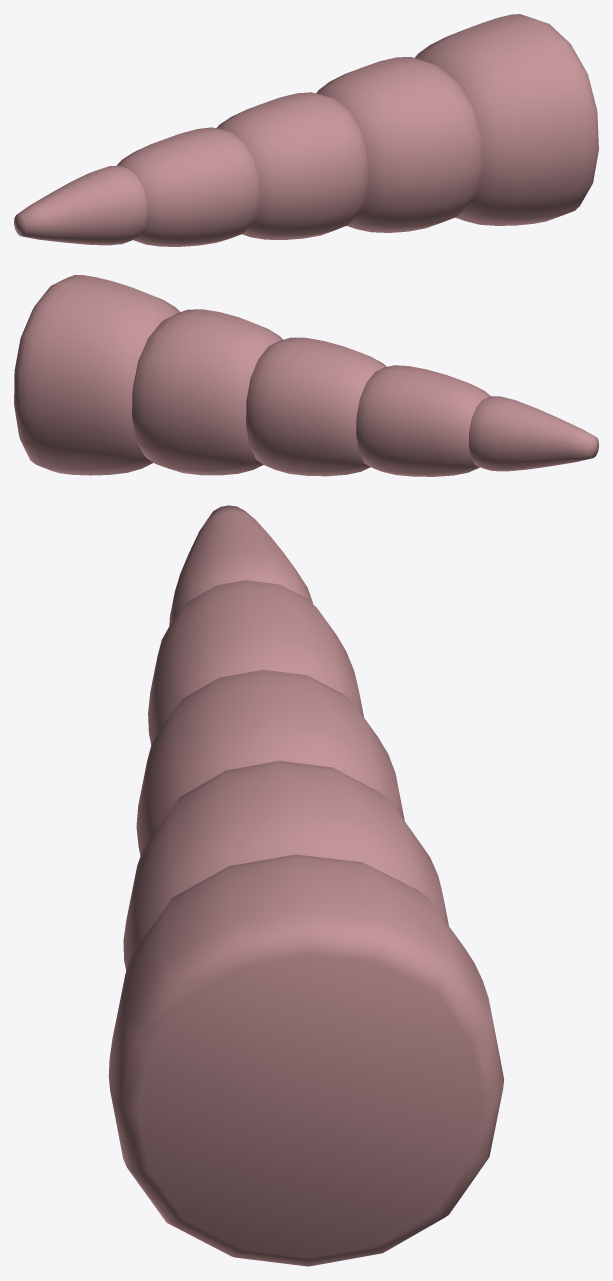
The model's file is ChifreDeUnicornio.fbx.
3 renders of one model, top to bottom at view 1: azimuth 30°, elevation 25°; view 2: azimuth 150°, elevation 25°; view 3: azimuth 270°, elevation 25°, orthographic. The views are drawn at different scales.
Visible parts, largest first — view 1: Chifre de Unicornio; view 2: Chifre de Unicornio; view 3: Chifre de Unicornio.
Part boxes in pixels (left/top/right/bottom): Chifre de Unicornio: left=14, top=14, right=598, bottom=246; Chifre de Unicornio: left=14, top=275, right=598, bottom=476; Chifre de Unicornio: left=108, top=505, right=504, bottom=1266.
Bounding box in the file's own units: 211 × 68.02 × 68.02.
